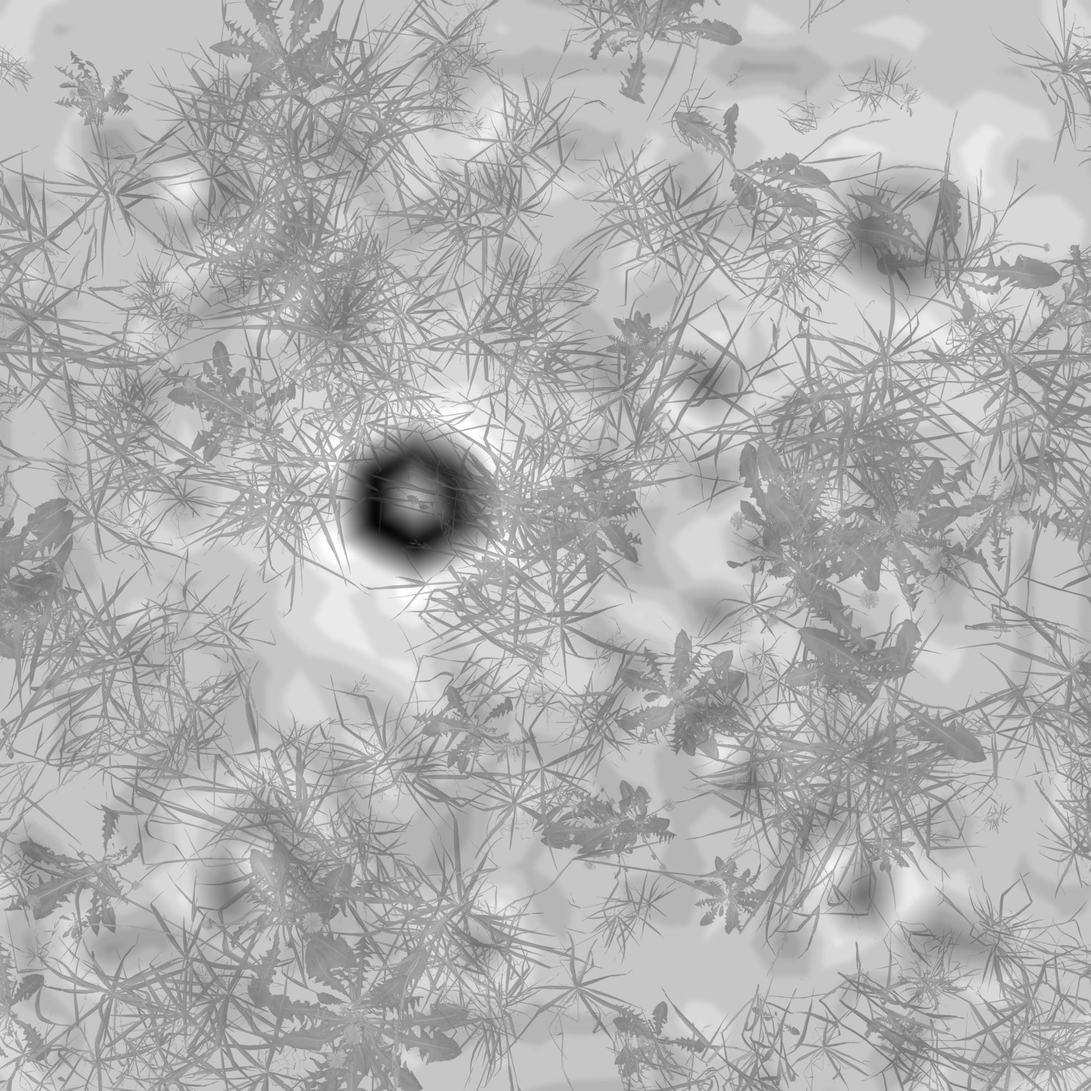landmine: (333, 433, 491, 580), (828, 161, 971, 300)
